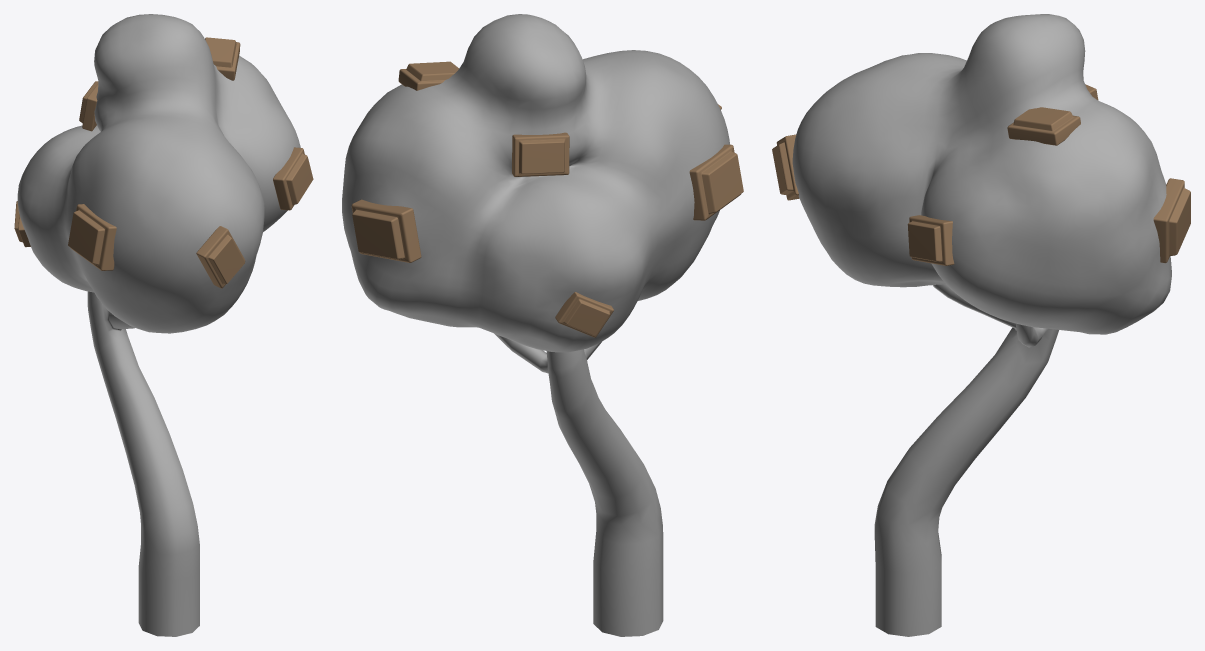
The model's file is Tree_MDL.fbx.
3 renders of one model, left to right at view 1: azimuth 30°, elevation 25°; view 2: azimuth 150°, elevation 25°; view 3: azimuth 270°, elevation 25°, orthographic. The views are drawn at different scales.
Visible parts, largest first — view 1: Tree_MDL; view 2: Tree_MDL; view 3: Tree_MDL.
Part boxes in pixels (x1=…): Tree_MDL: x1=14, y1=14, x2=313, y2=636; Tree_MDL: x1=342, y1=14, x2=743, y2=636; Tree_MDL: x1=772, y1=14, x2=1190, y2=636.
Bounding box in the file's own units: 140 × 288 × 175.
